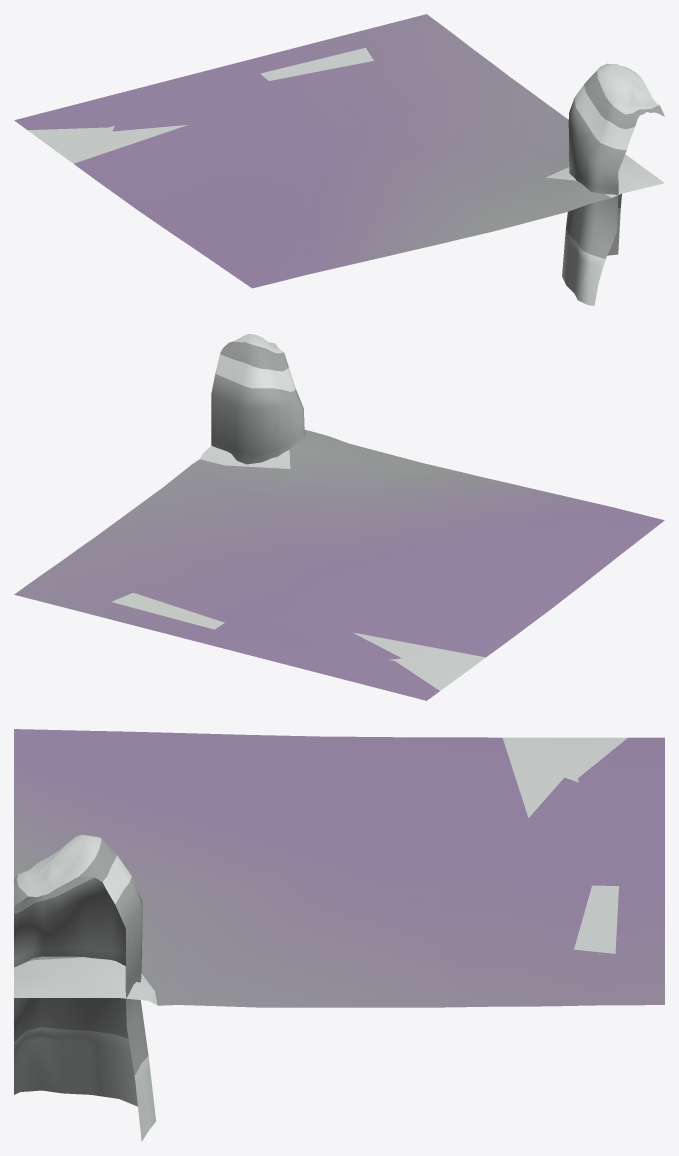
The picture shows the model from 3 angles, top to bottom: view 1: azimuth 30°, elevation 25°; view 2: azimuth 150°, elevation 25°; view 3: azimuth 270°, elevation 25°; orthographic projection. The views are drawn at different scales.
Visible parts, largest first — view 1: G:\FFXIV-MapTools\exports\m5f1\bg\ex4\02_mid_m5\fld\m5f1\bgp (×8); view 2: G:\FFXIV-MapTools\exports\m5f1\bg\ex4\02_mid_m5\fld\m5f1\bgp (×6); view 3: G:\FFXIV-MapTools\exports\m5f1\bg\ex4\02_mid_m5\fld\m5f1\bgp (×8).
Part boxes in pixels (x1=…): G:\FFXIV-MapTools\exports\m5f1\bg\ex4\02_mid_m5\fld\m5f1\bgp (×8): x1=14, y1=14, x2=664, y2=305; G:\FFXIV-MapTools\exports\m5f1\bg\ex4\02_mid_m5\fld\m5f1\bgp (×6): x1=14, y1=342, x2=664, y2=700; G:\FFXIV-MapTools\exports\m5f1\bg\ex4\02_mid_m5\fld\m5f1\bgp (×8): x1=14, y1=729, x2=664, y2=1141.
Bounding box in the file's own units: 128 × 62.7 × 128.
